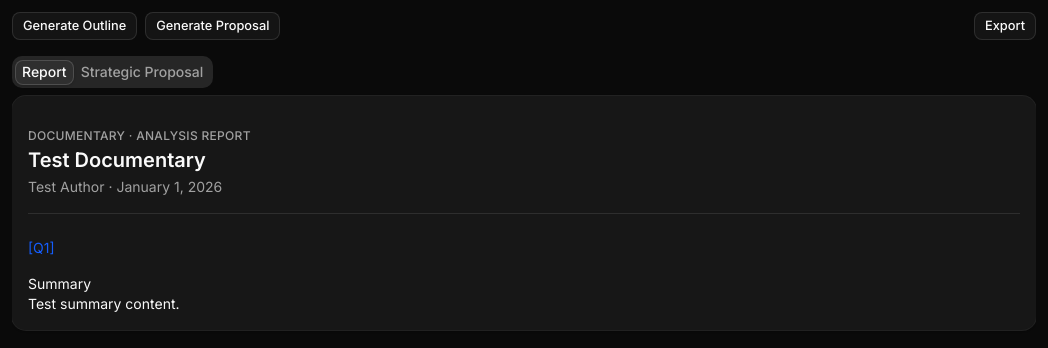
Test: DocumentWorkspace › renders export dropdown options when Export is clicked
Click the button "Export" at (1005,26), box [974,12,1036,40]
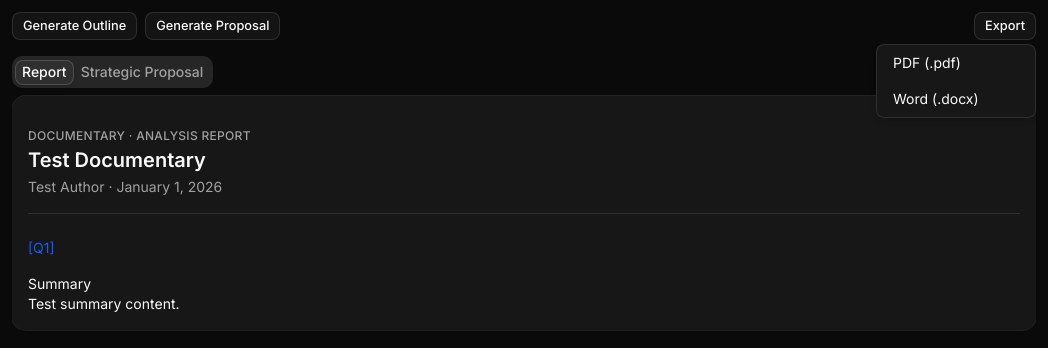
Now the button "PDF (.pdf)" is shown, box [877,45,1035,81]
Now the button "Word (.docx)" is shown, box [877,81,1035,117]
